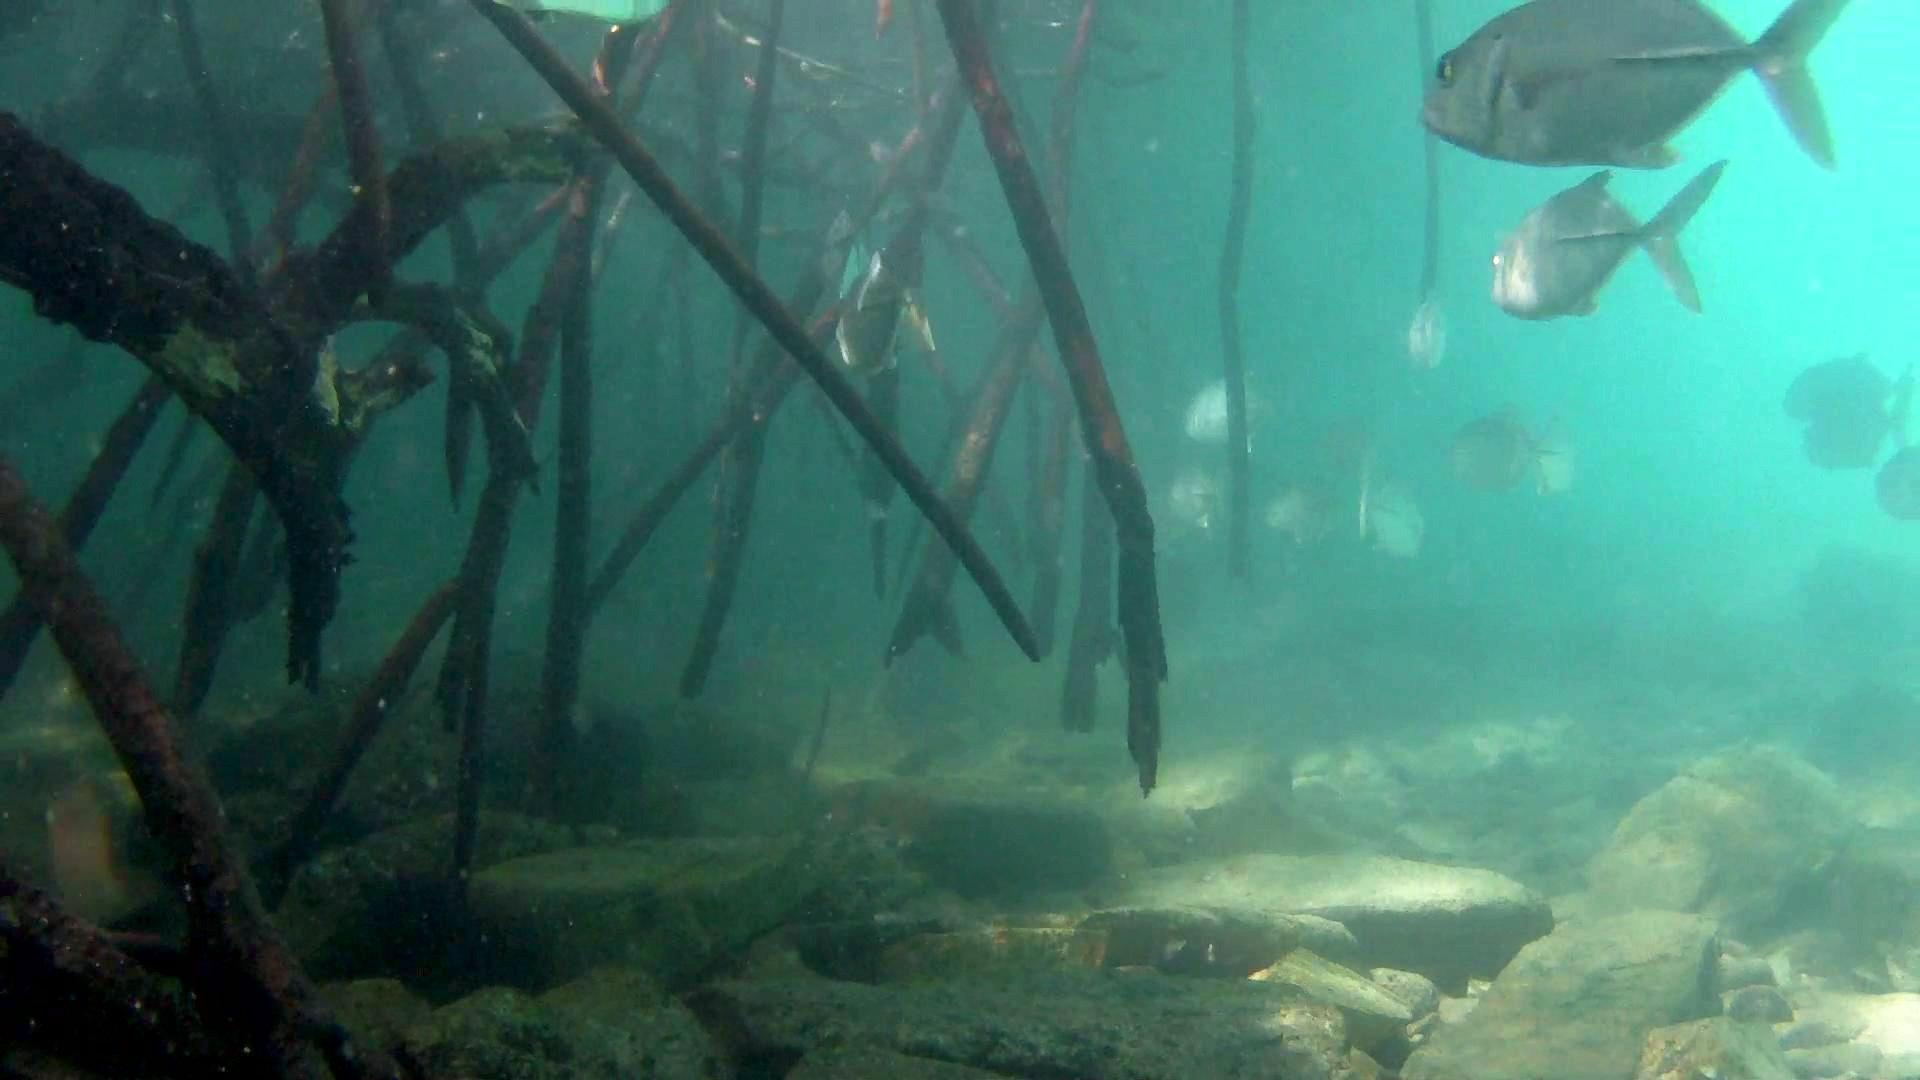caranx: (1415, 0, 1905, 177), (1482, 153, 1743, 330)
